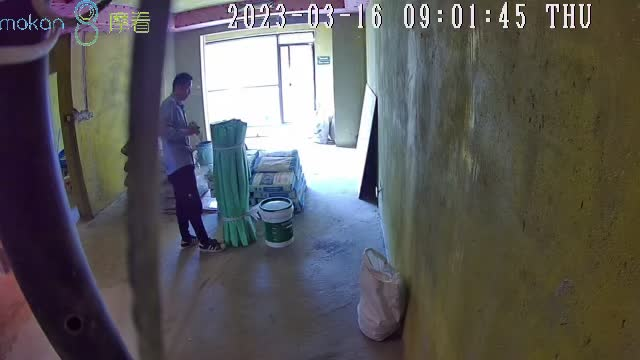people: (156, 72, 221, 253)
window: (202, 31, 317, 130)
